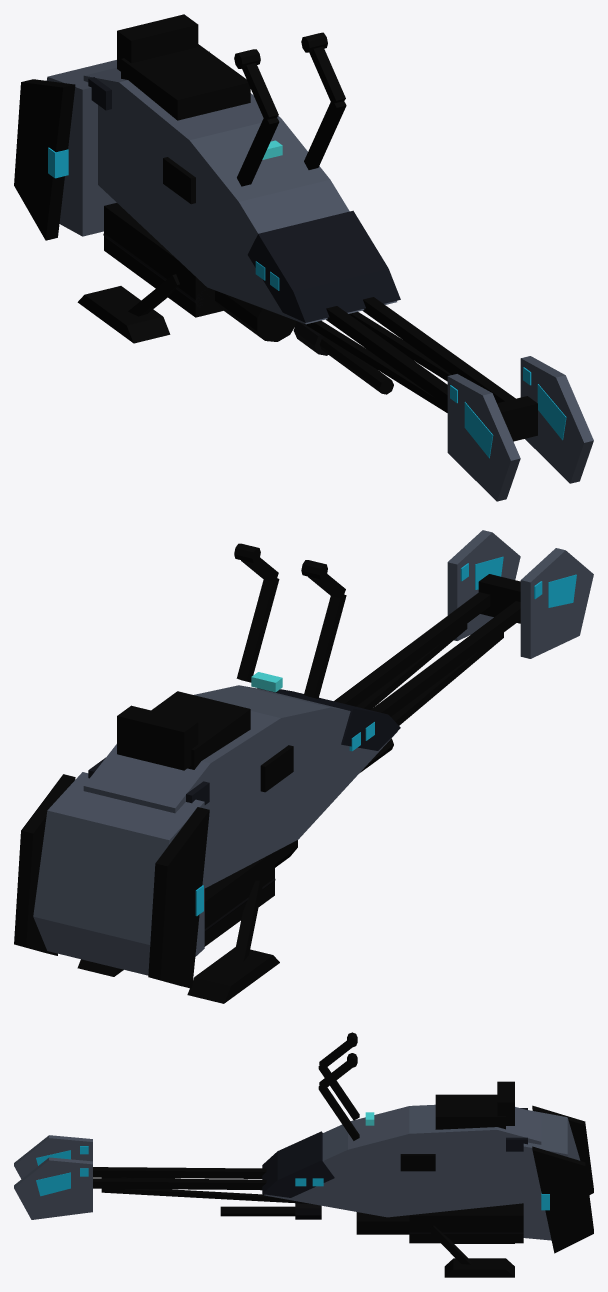
Rendered from Speeder.fbx.
The picture shows the model from 3 angles, top to bottom: view 1: azimuth 30°, elevation 25°; view 2: azimuth 150°, elevation 25°; view 3: azimuth 270°, elevation 25°; orthographic projection. The views are drawn at different scales.
Visible parts, largest first — view 1: Speeder; view 2: Speeder; view 3: Speeder.
Part boxes in pixels (left/top/right/bottom): Speeder: left=14, top=14, right=593, bottom=501; Speeder: left=14, top=530, right=593, bottom=1003; Speeder: left=14, top=1032, right=593, bottom=1277.
Bounding box in the file's own units: 0.244 × 0.5333 × 1.32.
